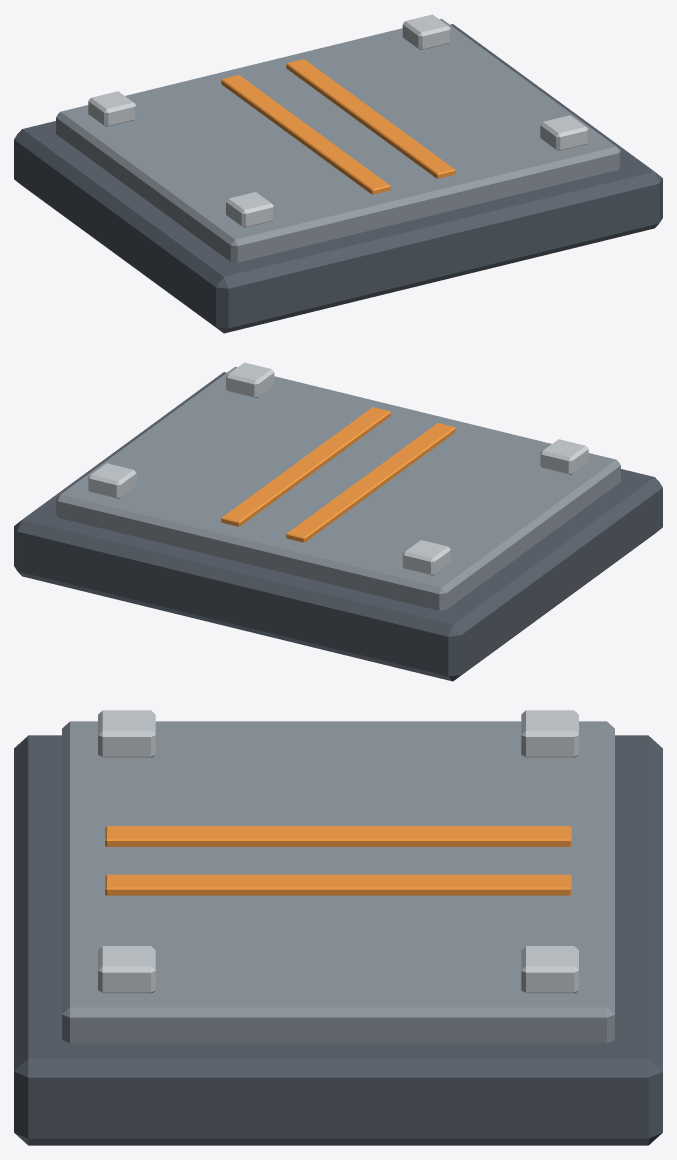
File: 04_armor_panel.glb
The picture shows the model from 3 angles, top to bottom: view 1: azimuth 30°, elevation 25°; view 2: azimuth 150°, elevation 25°; view 3: azimuth 270°, elevation 25°; orthographic projection. The views are drawn at different scales.
Visible parts, largest first — view 1: 04_armor_panel; view 2: 04_armor_panel; view 3: 04_armor_panel.
Boxes of the visible parts, left/top/right/bottom form: 04_armor_panel: left=14, top=14, right=662, bottom=333; 04_armor_panel: left=14, top=362, right=662, bottom=681; 04_armor_panel: left=14, top=710, right=662, bottom=1145.
Size of the model in its own units: 1.65 by 0.3345 by 1.35.
